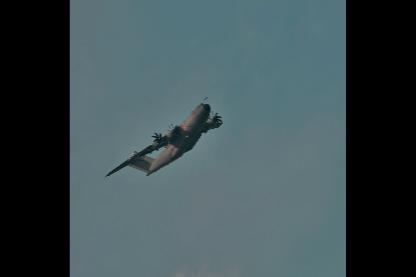A400M: (104, 95, 222, 175)
